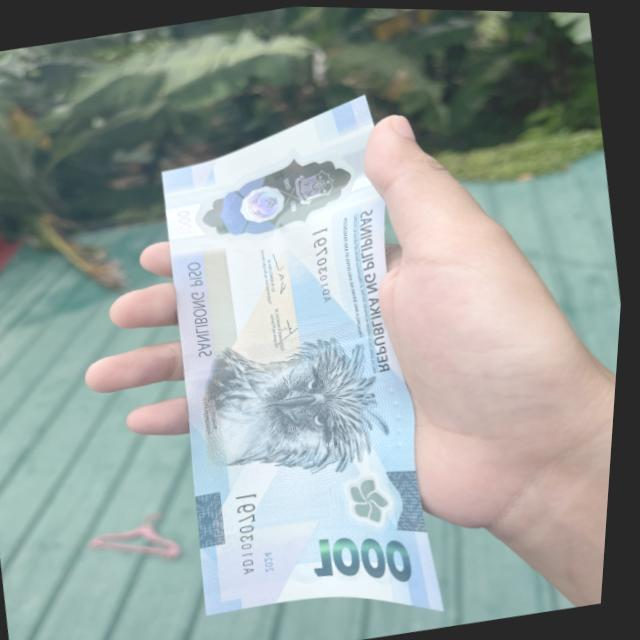clear_window: (144, 123, 394, 267)
eagle: (197, 322, 395, 481)
sampaguita: (321, 467, 407, 533)
security_thread: (187, 310, 395, 374)
serial_number: (225, 477, 288, 582), (308, 222, 350, 304)
